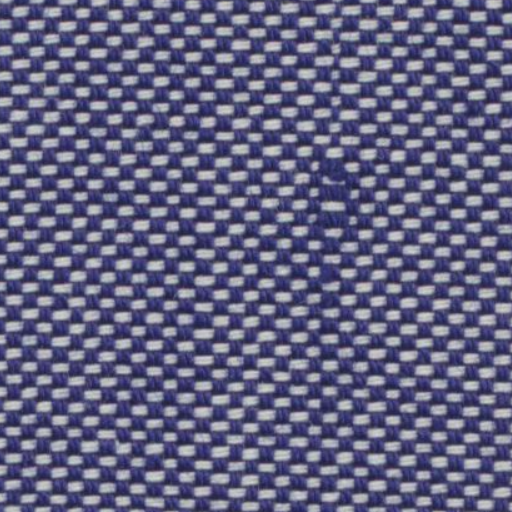DaiSha: (308, 126, 360, 383)
